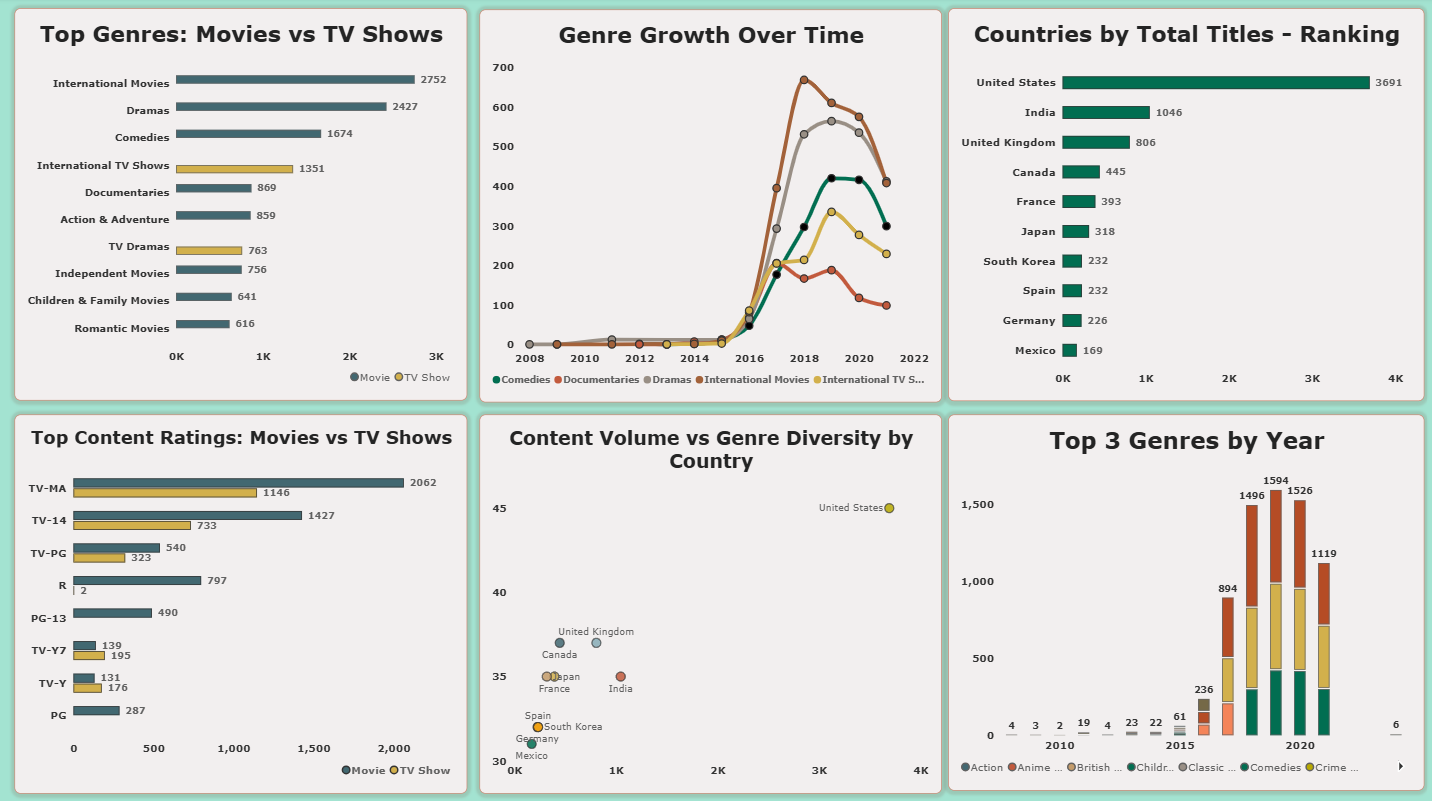

The dashboard page shown, as its layout file describes it:
{"tool":"powerbi","page":{"name":"Page 3","canvas":[1920,1080],"ordinal":2},"visuals":[{"type":"clusteredBarChart","title":"Top Genres: Movies vs TV Shows","fields":{"Category":["netflix_genre.listed_in"],"Y":["Count(netflix_genre.show_id)"],"Series":["netflix_genre.type"]},"box":[23.4,15,604.5,524.3],"z":0},{"type":"lineChart","title":"Genre Growth Over Time","fields":{"Y":["CountNonNull(netflix_genre.show_id)"],"Category":["netflix_genre.Year Added"],"Series":["netflix_genre.listed_in"]},"box":[644.3,16.5,617.5,524.9],"z":1000},{"type":"clusteredBarChart","title":"Top Content Ratings: Movies vs TV Shows","fields":{"Category":["netflix_titles_cleaned.rating"],"Y":["Count(netflix_titles_cleaned.show_id)"],"Series":["netflix_titles_cleaned.type"]},"box":[22.6,557.8,605.1,506.3],"z":2000},{"type":"scatterChart","title":"Content Volume vs Genre Diversity by Country","fields":{"X":["netflix_titles_cleaned.Total Titles"],"Category":["netflix_titles_cleaned.country"],"Y":["netflix_titles_cleaned.Genre Diversity"]},"box":[644.3,557.8,617.5,506.3],"z":3000},{"type":"clusteredBarChart","title":"Countries by Total Titles - Ranking","fields":{"Category":["netflix_country.country"],"Y":["Count(netflix_country.show_id)"]},"box":[1270,14.4,636,524.9],"z":4000},{"type":"columnChart","title":"Top 3 Genres by Year","fields":{"Category":["netflix_genre.Year Added"],"Y":["CountNonNull(netflix_genre.show_id)"],"Series":["netflix_genre.listed_in"]},"box":[1270,557.8,636,502.2],"z":5000}]}

Visuals, with their boxes in screenshot pixels (x1, y1, x2, y2), scaled from the page's 1920x1080 canvas onto the 1432x801 screenshot:
"Top Genres: Movies vs TV Shows" clusteredBarChart: 17,11,468,400
"Genre Growth Over Time" lineChart: 481,12,941,402
"Top Content Ratings: Movies vs TV Shows" clusteredBarChart: 17,414,468,789
"Content Volume vs Genre Diversity by Country" scatterChart: 481,414,941,789
"Countries by Total Titles - Ranking" clusteredBarChart: 947,11,1422,400
"Top 3 Genres by Year" columnChart: 947,414,1422,786
